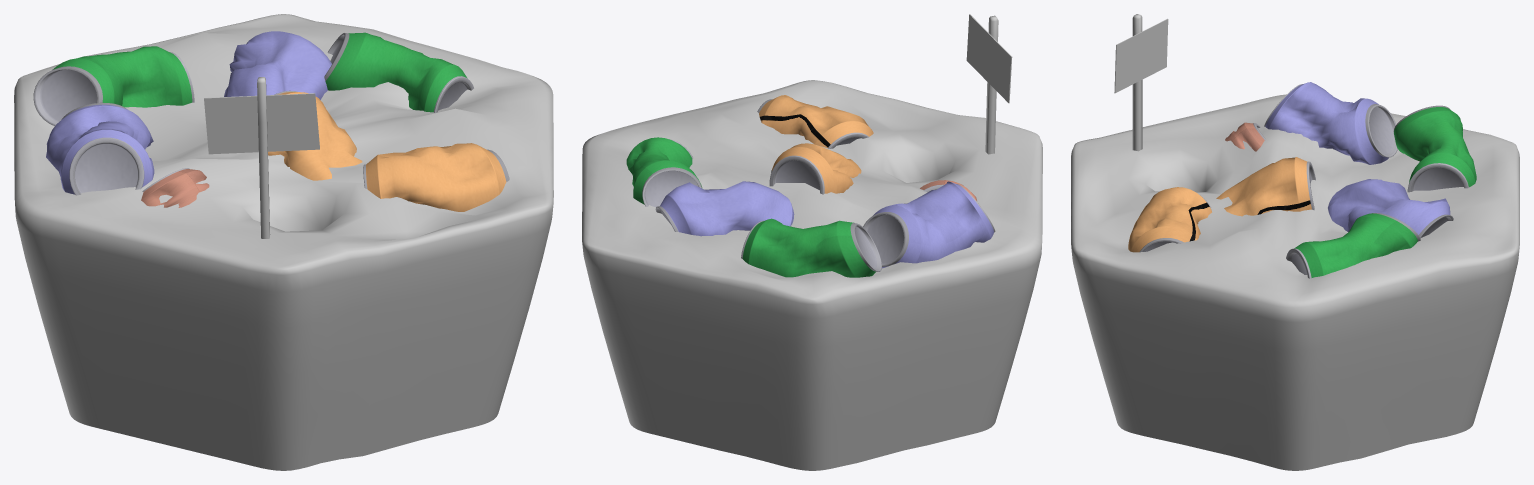
File: Bin-top_MES.fbx
The picture shows the model from 3 angles, left to right: view 1: azimuth 30°, elevation 25°; view 2: azimuth 150°, elevation 25°; view 3: azimuth 270°, elevation 25°; orthographic projection. The views are drawn at different scales.
Parts seen in each view (by area): view 1: BinTop, LINK_CrushedCan.009|CrushedCan.003_L_LINK_CrushedCan.blend|D, LINK_CrushedCan.004|CrushedCan.002_L_LINK_CrushedCan.blend|D, LINK_CrushedCan.006|CrushedCan.001_L_LINK_CrushedCan.blend|D, LINK_CrushedCan.005|CrushedCan.003_L_LINK_CrushedCan.blend|D, Sign-display, LINK_CrushedCan.008|CrushedCan.002_L_LINK_CrushedCan.blend|D, LINK_CrushedCan.003|CrushedCan.001_L_LINK_CrushedCan.blend|D, LINK_CrushedCan.007|CrushedCan_L_LINK_CrushedCan.blend|Dupli, Sign-post; view 2: BinTop, LINK_CrushedCan.004|CrushedCan.002_L_LINK_CrushedCan.blend|D, LINK_CrushedCan.009|CrushedCan.003_L_LINK_CrushedCan.blend|D, LINK_CrushedCan.008|CrushedCan.002_L_LINK_CrushedCan.blend|D, LINK_CrushedCan.006|CrushedCan.001_L_LINK_CrushedCan.blend|D, LINK_CrushedCan.005|CrushedCan.003_L_LINK_CrushedCan.blend|D, LINK_CrushedCan.003|CrushedCan.001_L_LINK_CrushedCan.blend|D, Sign-display, Sign-post; view 3: BinTop, LINK_CrushedCan.004|CrushedCan.002_L_LINK_CrushedCan.blend|D, LINK_CrushedCan.009|CrushedCan.003_L_LINK_CrushedCan.blend|D, LINK_CrushedCan.005|CrushedCan.003_L_LINK_CrushedCan.blend|D, LINK_CrushedCan.008|CrushedCan.002_L_LINK_CrushedCan.blend|D, LINK_CrushedCan.003|CrushedCan.001_L_LINK_CrushedCan.blend|D, LINK_CrushedCan.006|CrushedCan.001_L_LINK_CrushedCan.blend|D, Sign-display, Sign-post, LINK_CrushedCan.007|CrushedCan_L_LINK_CrushedCan.blend|Dupli.
Boxes of the visible parts, bbox=[...] form: BinTop: bbox=[14, 14, 553, 470]; LINK_CrushedCan.009|CrushedCan.003_L_LINK_CrushedCan.blend|D: bbox=[33, 46, 194, 125]; LINK_CrushedCan.004|CrushedCan.002_L_LINK_CrushedCan.blend|D: bbox=[46, 102, 154, 195]; LINK_CrushedCan.006|CrushedCan.001_L_LINK_CrushedCan.blend|D: bbox=[363, 143, 509, 211]; LINK_CrushedCan.005|CrushedCan.003_L_LINK_CrushedCan.blend|D: bbox=[324, 32, 473, 112]; Sign-display: bbox=[204, 93, 319, 154]; LINK_CrushedCan.008|CrushedCan.002_L_LINK_CrushedCan.blend|D: bbox=[224, 31, 331, 99]; LINK_CrushedCan.003|CrushedCan.001_L_LINK_CrushedCan.blend|D: bbox=[268, 90, 362, 180]; LINK_CrushedCan.007|CrushedCan_L_LINK_CrushedCan.blend|Dupli: bbox=[141, 168, 209, 207]; Sign-post: bbox=[257, 77, 270, 238]; BinTop: bbox=[582, 80, 1042, 470]; LINK_CrushedCan.004|CrushedCan.002_L_LINK_CrushedCan.blend|D: bbox=[863, 181, 995, 268]; LINK_CrushedCan.009|CrushedCan.003_L_LINK_CrushedCan.blend|D: bbox=[741, 218, 881, 277]; LINK_CrushedCan.008|CrushedCan.002_L_LINK_CrushedCan.blend|D: bbox=[655, 181, 794, 236]; LINK_CrushedCan.006|CrushedCan.001_L_LINK_CrushedCan.blend|D: bbox=[757, 95, 873, 148]; LINK_CrushedCan.005|CrushedCan.003_L_LINK_CrushedCan.blend|D: bbox=[626, 137, 702, 207]; LINK_CrushedCan.003|CrushedCan.001_L_LINK_CrushedCan.blend|D: bbox=[769, 143, 861, 194]; Sign-display: bbox=[966, 14, 1012, 103]; Sign-post: bbox=[985, 15, 998, 154]; BinTop: bbox=[1071, 94, 1519, 470]; LINK_CrushedCan.004|CrushedCan.002_L_LINK_CrushedCan.blend|D: bbox=[1264, 82, 1397, 164]; LINK_CrushedCan.009|CrushedCan.003_L_LINK_CrushedCan.blend|D: bbox=[1393, 105, 1476, 192]; LINK_CrushedCan.005|CrushedCan.003_L_LINK_CrushedCan.blend|D: bbox=[1286, 213, 1420, 278]; LINK_CrushedCan.008|CrushedCan.002_L_LINK_CrushedCan.blend|D: bbox=[1328, 179, 1453, 238]; LINK_CrushedCan.003|CrushedCan.001_L_LINK_CrushedCan.blend|D: bbox=[1216, 157, 1315, 216]; LINK_CrushedCan.006|CrushedCan.001_L_LINK_CrushedCan.blend|D: bbox=[1128, 187, 1211, 252]; Sign-display: bbox=[1114, 18, 1168, 93]; Sign-post: bbox=[1132, 14, 1142, 151]; LINK_CrushedCan.007|CrushedCan_L_LINK_CrushedCan.blend|Dupli: bbox=[1225, 122, 1266, 151].
Size of the model in its own units: 34.63 by 24.62 by 30.84.
